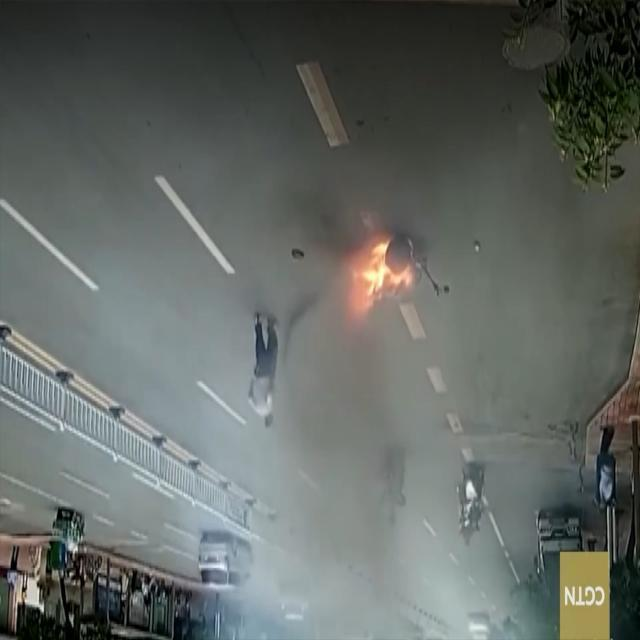fire: (340, 232, 420, 320)
